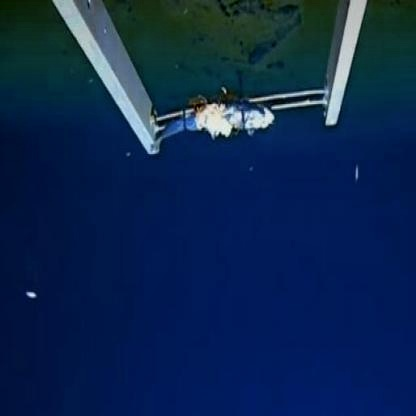misc: (155, 60, 297, 157)
